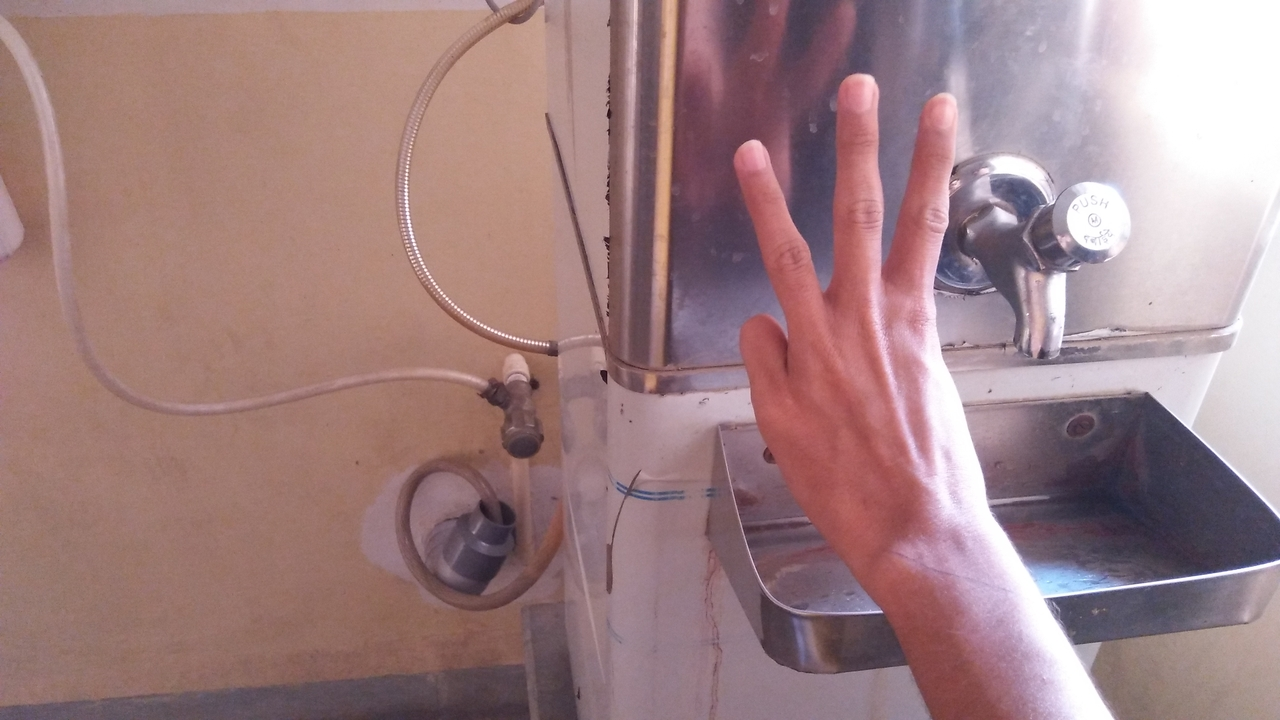fingertip: (728, 132, 784, 188), (834, 66, 888, 122), (914, 84, 970, 132)
